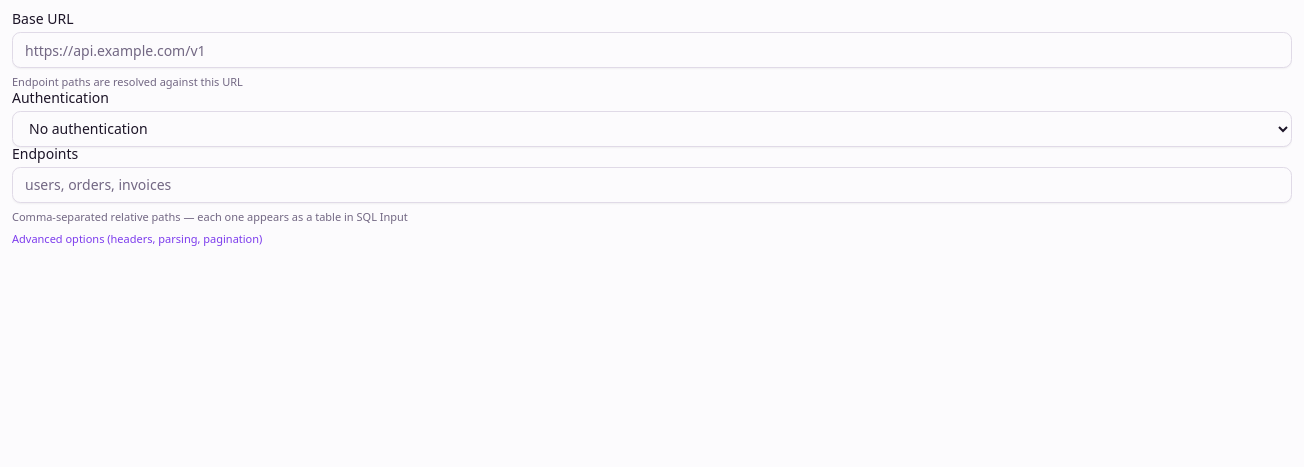
ApiFields › shows a username field only for basic auth
The image size is (1304, 467).
Select "Basic (username + password)" in the dropdown at [652, 128], box [12,110,1292,146]
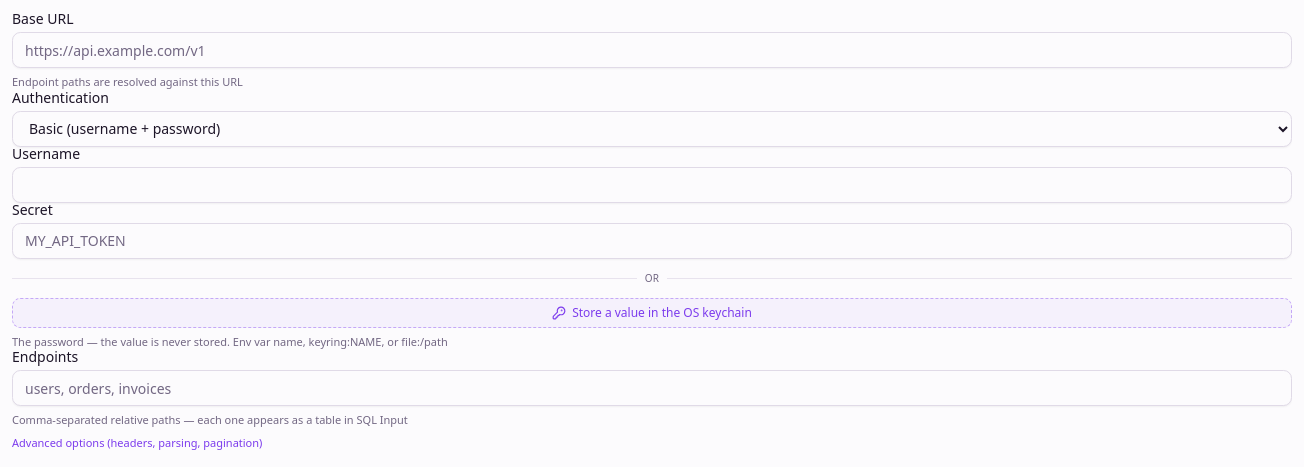
expect the text "Username" is shown: met, box [12,144,80,162]
